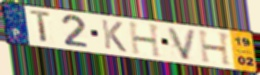2: (60, 13, 92, 51)
H: (196, 30, 234, 68), (127, 21, 164, 60)
K: (100, 18, 129, 54)
T: (28, 8, 53, 44)
V: (165, 26, 199, 62)
